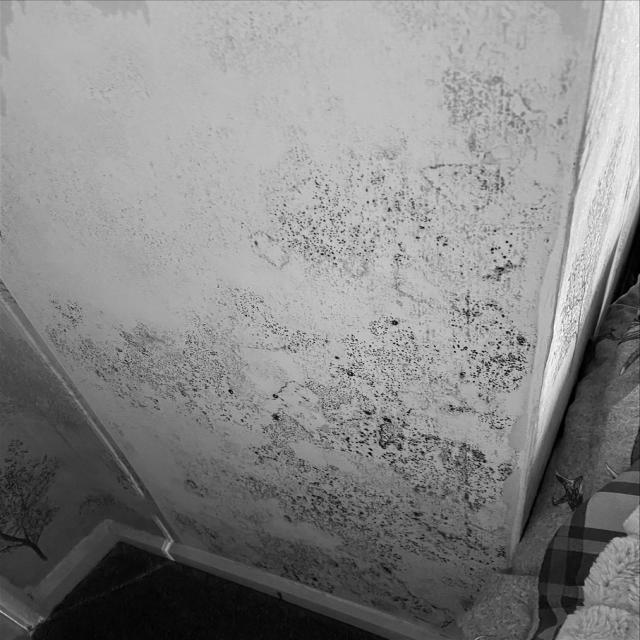stain marks: (1, 222, 426, 626), (332, 5, 601, 628), (0, 114, 258, 254), (215, 128, 453, 278), (173, 0, 377, 113), (40, 50, 171, 104)
